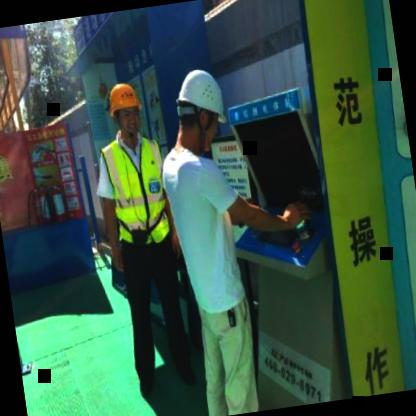helmet: (164, 58, 232, 159), (103, 75, 148, 145)
